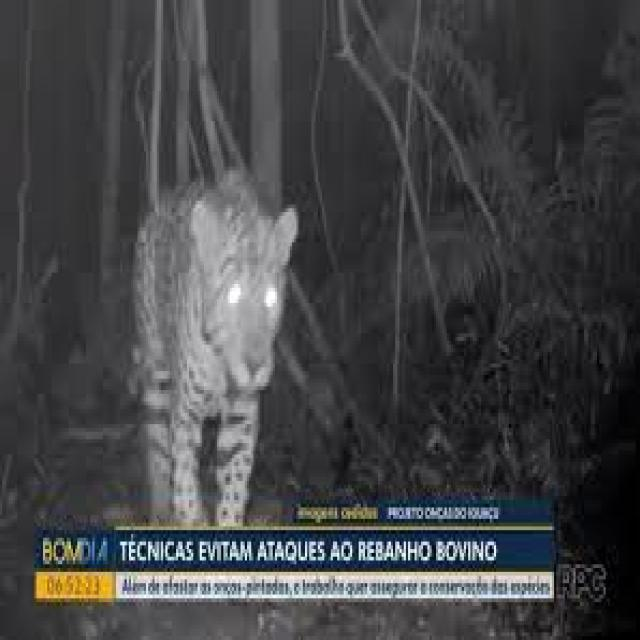Jaguar: (124, 186, 284, 496)
